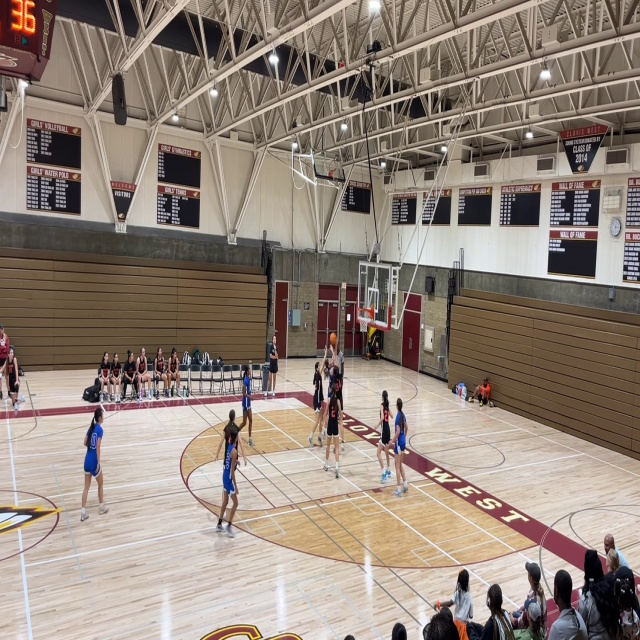Basketball: (329, 332, 337, 345)
